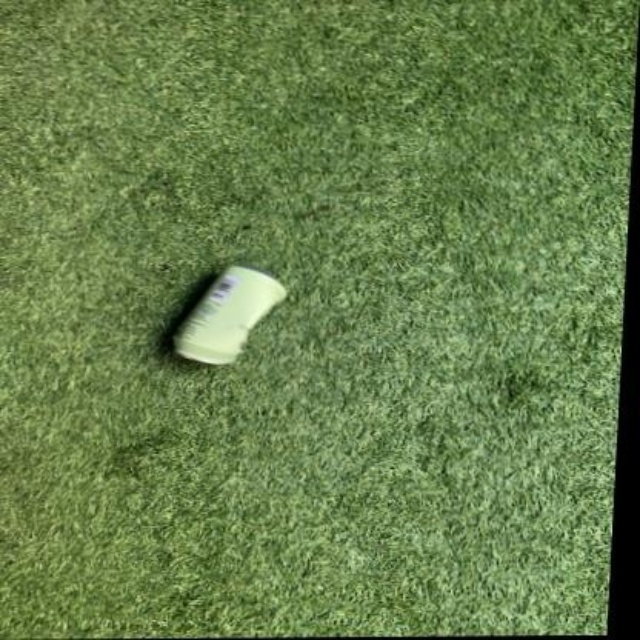trash: (174, 266, 285, 363)
